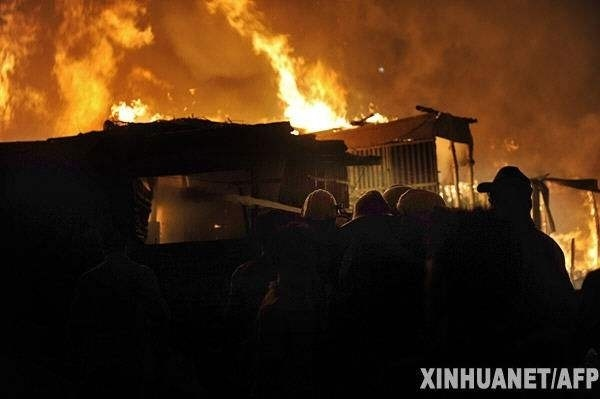fire: (0, 0, 158, 137), (211, 3, 361, 137), (530, 180, 600, 278), (108, 95, 158, 124)
